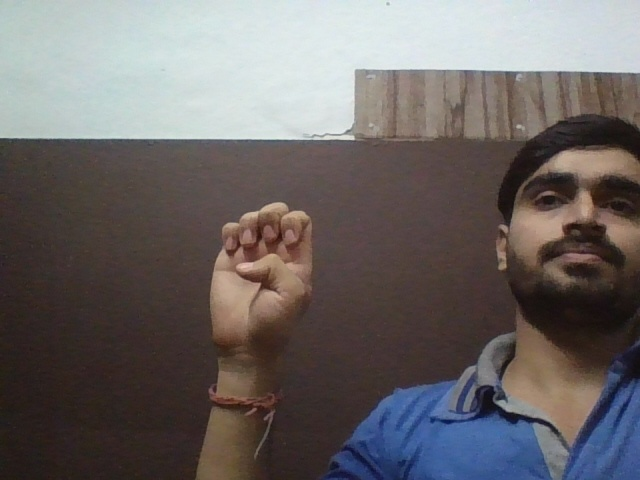E: (195, 201, 333, 360)
